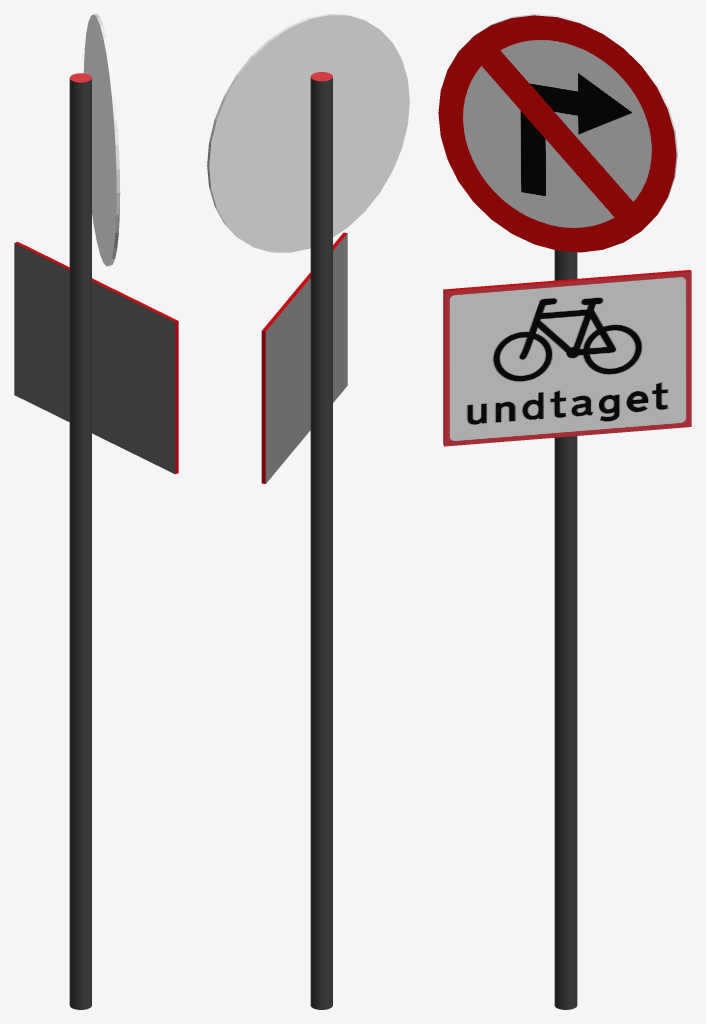
Rendered from SignNoRightTurnWithPole.fbx.
3 views of the same model, side by side, from view 1: azimuth 30°, elevation 25°; view 2: azimuth 150°, elevation 25°; view 3: azimuth 270°, elevation 25° (orthographic).
Visible parts, largest first — view 1: SignNoRightTurnWithPole; view 2: SignNoRightTurnWithPole; view 3: SignNoRightTurnWithPole.
Part boxes in pixels (left/top/right/bottom): SignNoRightTurnWithPole: left=14, top=14, right=178, bottom=1009; SignNoRightTurnWithPole: left=207, top=14, right=409, bottom=1009; SignNoRightTurnWithPole: left=438, top=14, right=691, bottom=1009.
Size of the model in its own units: 21.8 by 236 by 54.28.
